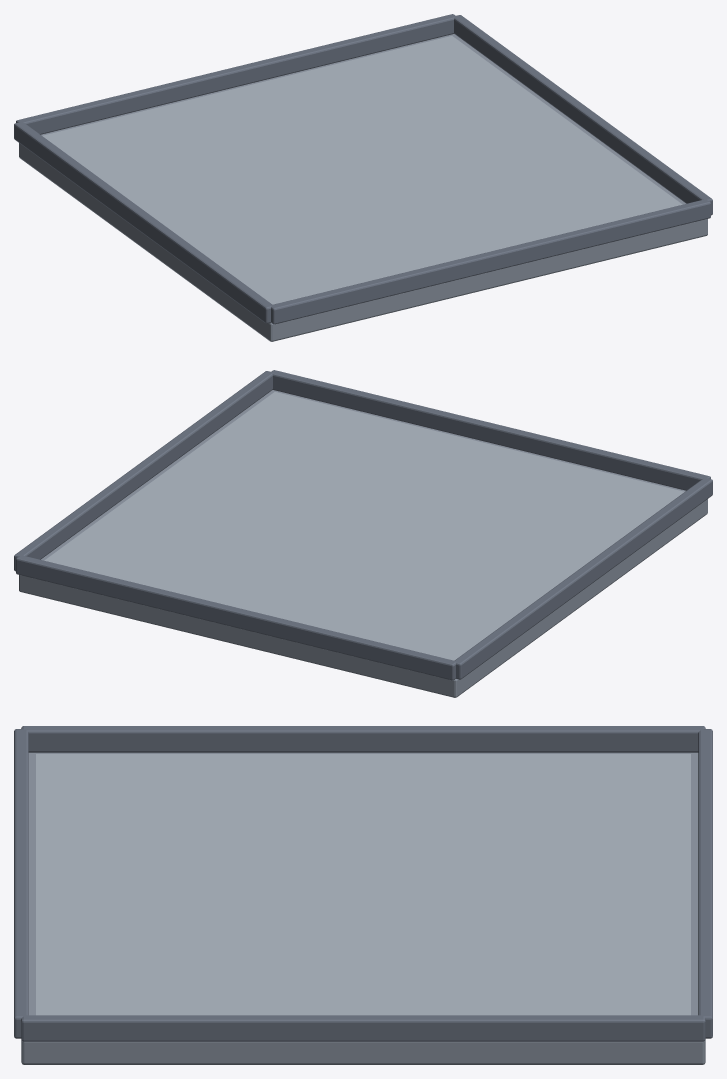
Rendered from Jumping_Roof.fbx.
The picture shows the model from 3 angles, top to bottom: view 1: azimuth 30°, elevation 25°; view 2: azimuth 150°, elevation 25°; view 3: azimuth 270°, elevation 25°; orthographic projection. The views are drawn at different scales.
Visible parts, largest first — view 1: Roof; view 2: Roof; view 3: Roof.
Part boxes in pixels (box(x1,y1,x2,y2)): Roof: box(14, 14, 712, 341); Roof: box(14, 370, 712, 697); Roof: box(14, 726, 712, 1064).
Size of the model in its own units: 14.3 by 1.1 by 14.3.
